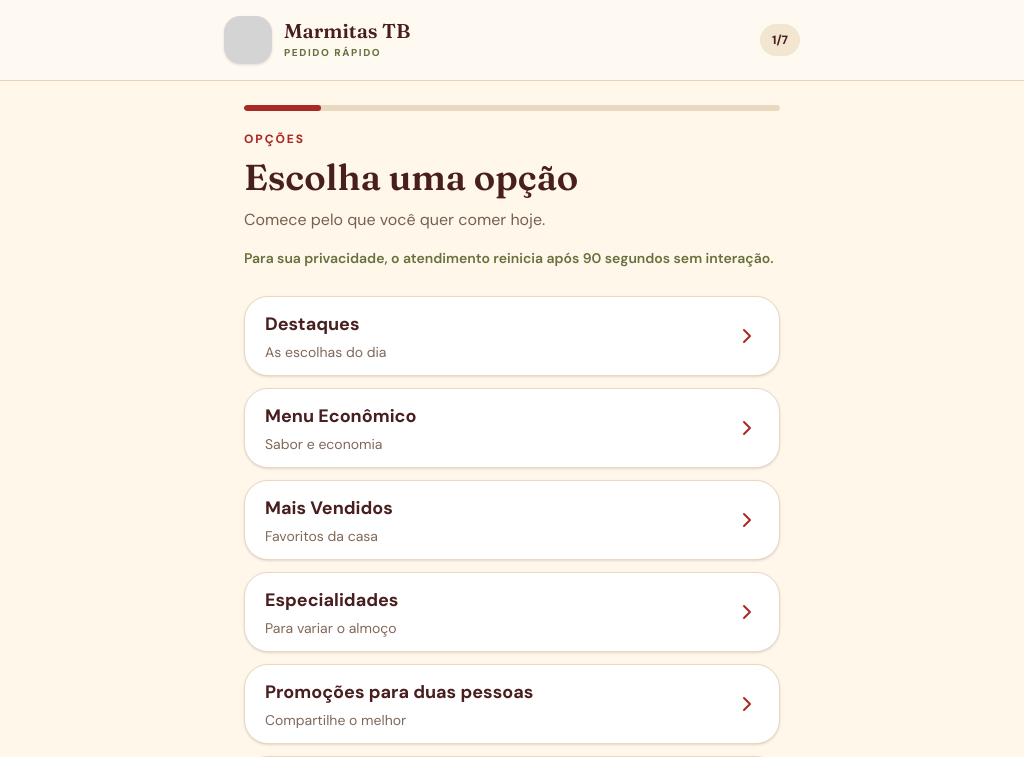
Scenario: Totem › adiciona a marmita escolhida e segue diretamente para as bebidas
Click the button "Destaques As escolhas do dia" at (312, 324), box 244,296 -> 780,376
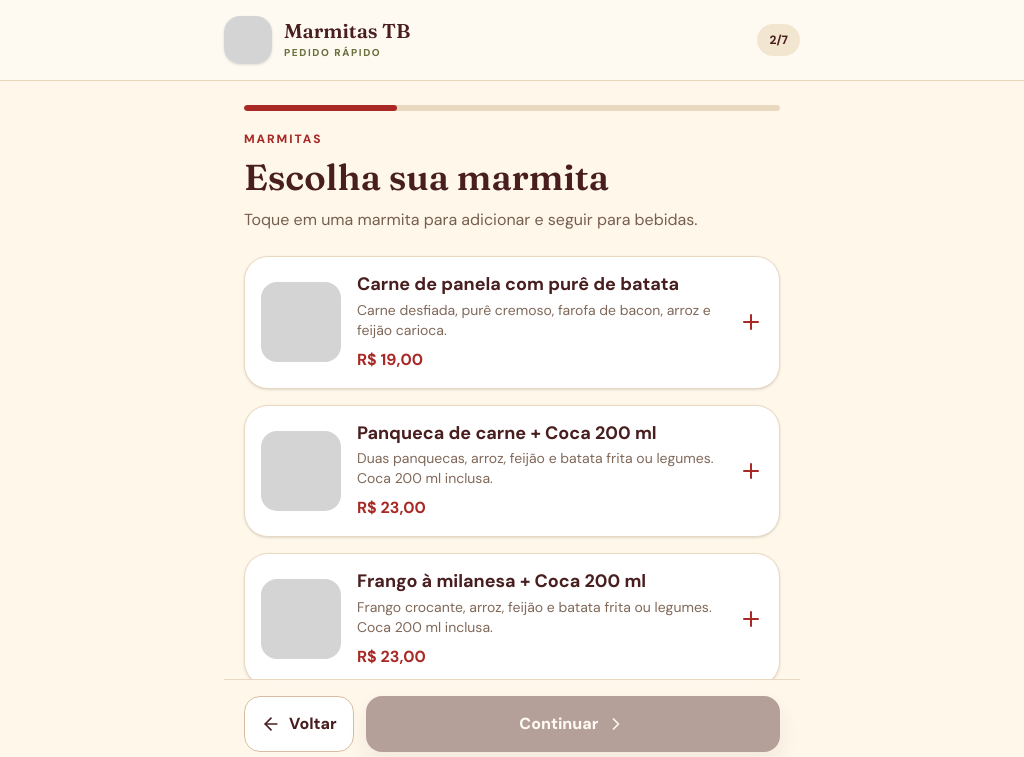
Click the button that starts with "Carne de panela com purê de batata" at (301, 322), box 245,257 -> 779,388
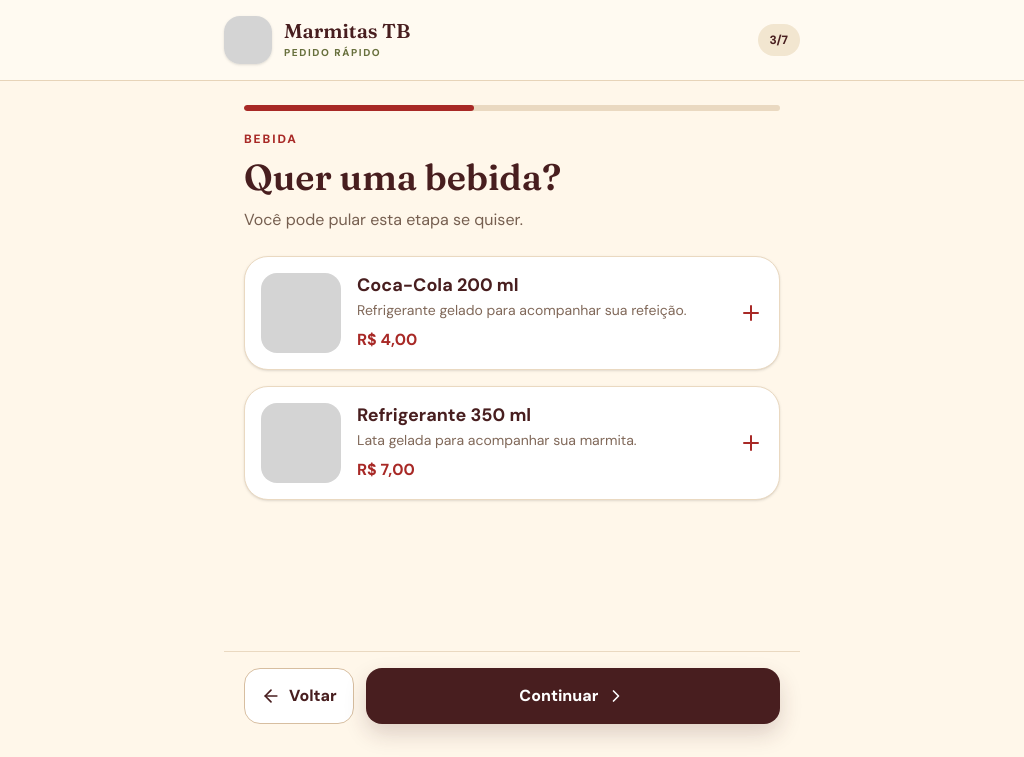
Now the heading "Quer uma bebida?" is shown, box 244,155 -> 561,199
